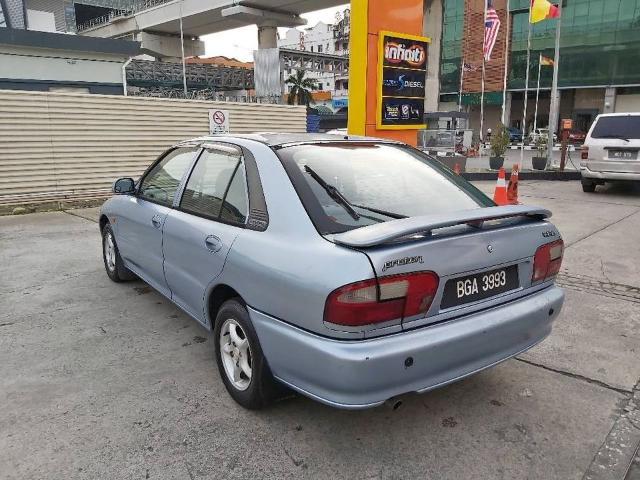License_Plate: (449, 267, 520, 301)
car: (93, 144, 571, 420)
